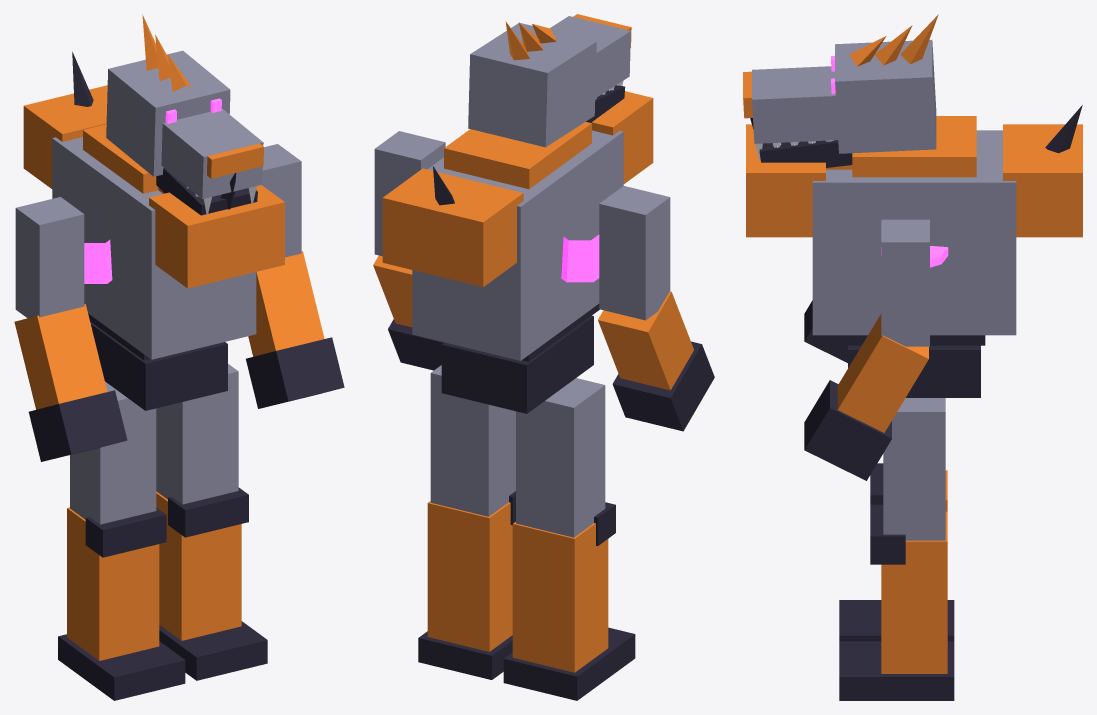
The model's file is arcade.robot.glb.
The picture shows the model from 3 angles, left to right: view 1: azimuth 30°, elevation 25°; view 2: azimuth 150°, elevation 25°; view 3: azimuth 270°, elevation 25°; orthographic projection. The views are drawn at different scales.
Visible parts, largest first — view 1: robot_torso, robot_leg_shin_R, robot_head, robot_leg_shin_L, robot_arm_lower_R, robot_arm_lower_L, robot_leg_thigh_L, robot_arm_upper_R, robot_leg_thigh_R, robot_pelvis, robot_arm_upper_L, robot_jaw; view 2: robot_torso, robot_leg_shin_R, robot_head, robot_leg_shin_L, robot_leg_thigh_R, robot_arm_lower_R, robot_leg_thigh_L, robot_arm_upper_R, robot_pelvis, robot_arm_upper_L, robot_arm_lower_L, robot_jaw; view 3: robot_torso, robot_head, robot_leg_shin_L, robot_arm_lower_L, robot_leg_thigh_L, robot_arm_upper_L, robot_pelvis, robot_leg_shin_R, robot_jaw, robot_arm_lower_R.
Boxes of the visible parts, box(x1,y1,x2,y2) form: robot_torso: box(23, 51, 284, 360); robot_leg_shin_R: box(58, 507, 185, 700); robot_head: box(106, 14, 263, 214); robot_leg_shin_L: box(156, 487, 267, 680); robot_arm_lower_R: box(14, 304, 127, 461); robot_arm_lower_L: box(246, 251, 344, 408); robot_leg_thigh_L: box(156, 364, 238, 504); robot_arm_upper_R: box(15, 197, 84, 318); robot_leg_thigh_R: box(70, 381, 156, 524); robot_pelvis: box(90, 321, 227, 410); robot_arm_upper_L: box(262, 144, 301, 257); robot_jaw: box(156, 168, 257, 215); robot_torso: box(382, 91, 653, 361); robot_leg_shin_R: box(503, 502, 635, 700); robot_head: box(468, 14, 631, 147); robot_leg_shin_L: box(418, 491, 515, 679); robot_leg_thigh_R: box(516, 378, 605, 537); robot_arm_lower_R: box(598, 291, 714, 431); robot_leg_thigh_L: box(430, 365, 515, 516); robot_arm_upper_R: box(599, 186, 670, 320); robot_pelvis: box(441, 315, 593, 413); robot_arm_upper_L: box(374, 131, 445, 256); robot_arm_lower_L: box(373, 255, 444, 370); robot_jaw: box(586, 85, 625, 122); robot_torso: box(746, 105, 1082, 345); robot_head: box(743, 14, 938, 159); robot_leg_shin_L: box(839, 504, 954, 700); robot_arm_lower_L: box(804, 314, 928, 480); robot_leg_thigh_L: box(883, 398, 945, 540); robot_arm_upper_L: box(881, 219, 929, 346); robot_pelvis: box(848, 345, 980, 397); robot_leg_shin_R: box(839, 463, 954, 641); robot_jaw: box(759, 140, 852, 169); robot_arm_lower_R: box(804, 300, 847, 362).
Size of the model in its own units: 3.65 by 8.08 by 3.83.
